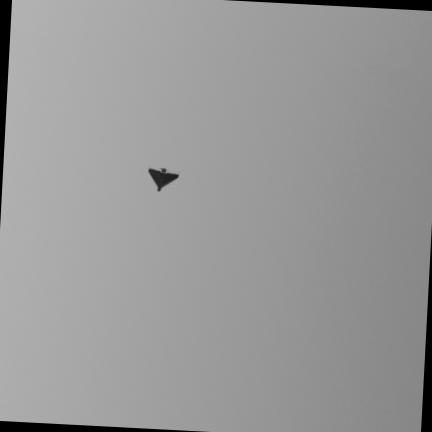Shahed: (148, 169, 178, 191)
